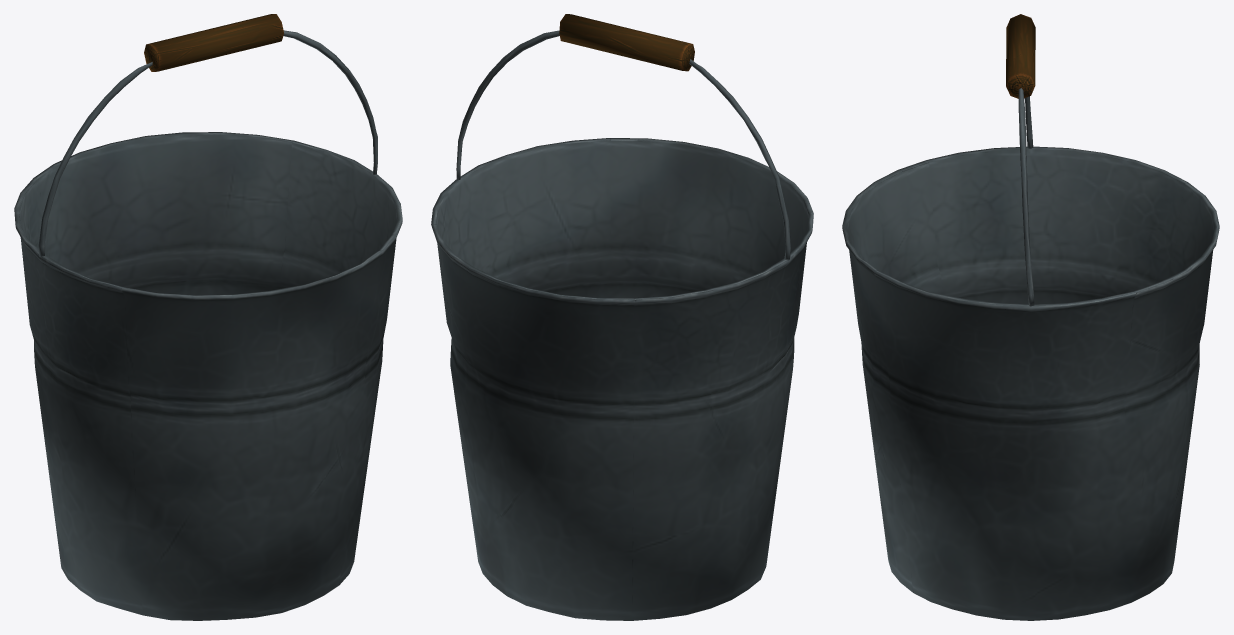
Rendered from Bucket.fbx.
The picture shows the model from 3 angles, left to right: view 1: azimuth 30°, elevation 25°; view 2: azimuth 150°, elevation 25°; view 3: azimuth 270°, elevation 25°; orthographic projection. The views are drawn at different scales.
Visible parts, largest first — view 1: Bucket; view 2: Bucket; view 3: Bucket.
Boxes of the visible parts, x1,y1,x2,y2 form: Bucket: (14,14,402,620); Bucket: (431,14,813,620); Bucket: (842,14,1219,620).
Size of the model in its own units: 42.64 by 64.46 by 42.34.
Materials: 1 (1 with a texture image).
